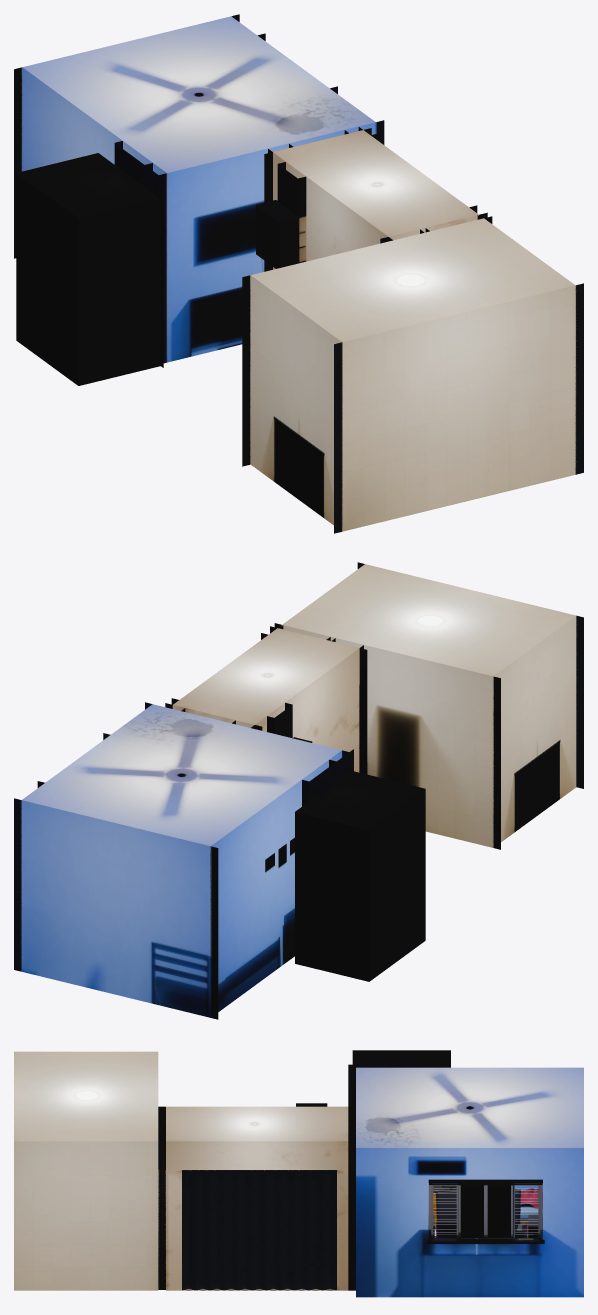
The model's file is casa-2048.glb.
3 views of the same model, one above another, from view 1: azimuth 30°, elevation 25°; view 2: azimuth 150°, elevation 25°; view 3: azimuth 270°, elevation 25° (orthographic). The views are drawn at different scales.
Parts seen in each view (by area): view 1: casa_estrutura; view 2: casa_estrutura; view 3: casa_estrutura, casa_moveis.
Boxes of the visible parts, x1,y1,x2,y2 form: casa_estrutura: (14, 14, 583, 533); casa_estrutura: (14, 562, 583, 1019); casa_estrutura: (14, 1050, 583, 1297); casa_moveis: (427, 1179, 544, 1243).
Size of the model in its own units: 4.42 by 2.6 by 9.
2 materials, 2 textured.
